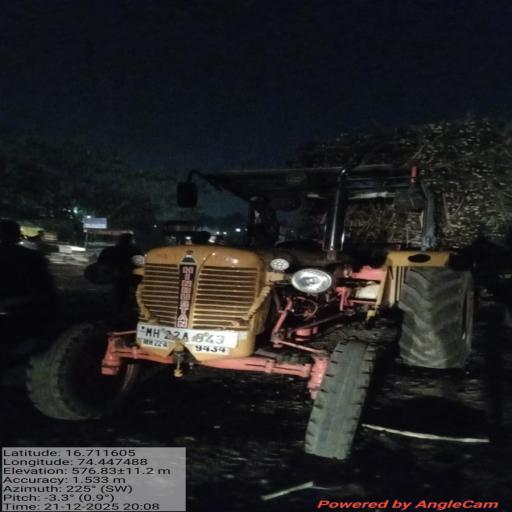number_plate: (132, 316, 244, 362)
